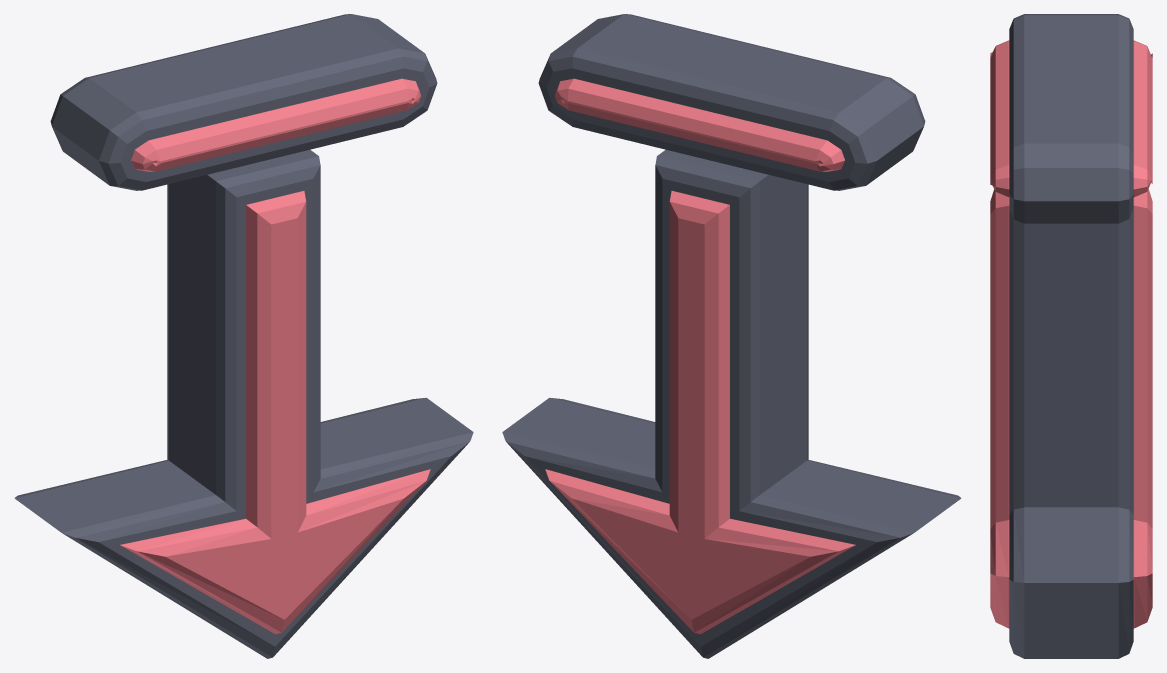
The model's file is game-ui-icon-library-debuff-arrow-down-d8f620d6__18990.glb.
3 views of the same model, side by side, from view 1: azimuth 30°, elevation 25°; view 2: azimuth 150°, elevation 25°; view 3: azimuth 270°, elevation 25° (orthographic).
Visible parts, largest first — view 1: debuff-arrow-down; view 2: debuff-arrow-down; view 3: debuff-arrow-down.
Part boxes in pixels (bbox=[...]): debuff-arrow-down: bbox=[14, 14, 473, 658]; debuff-arrow-down: bbox=[502, 14, 961, 658]; debuff-arrow-down: bbox=[990, 14, 1152, 658].
Size of the model in its own units: 0.7011 by 0.94 by 0.239.
